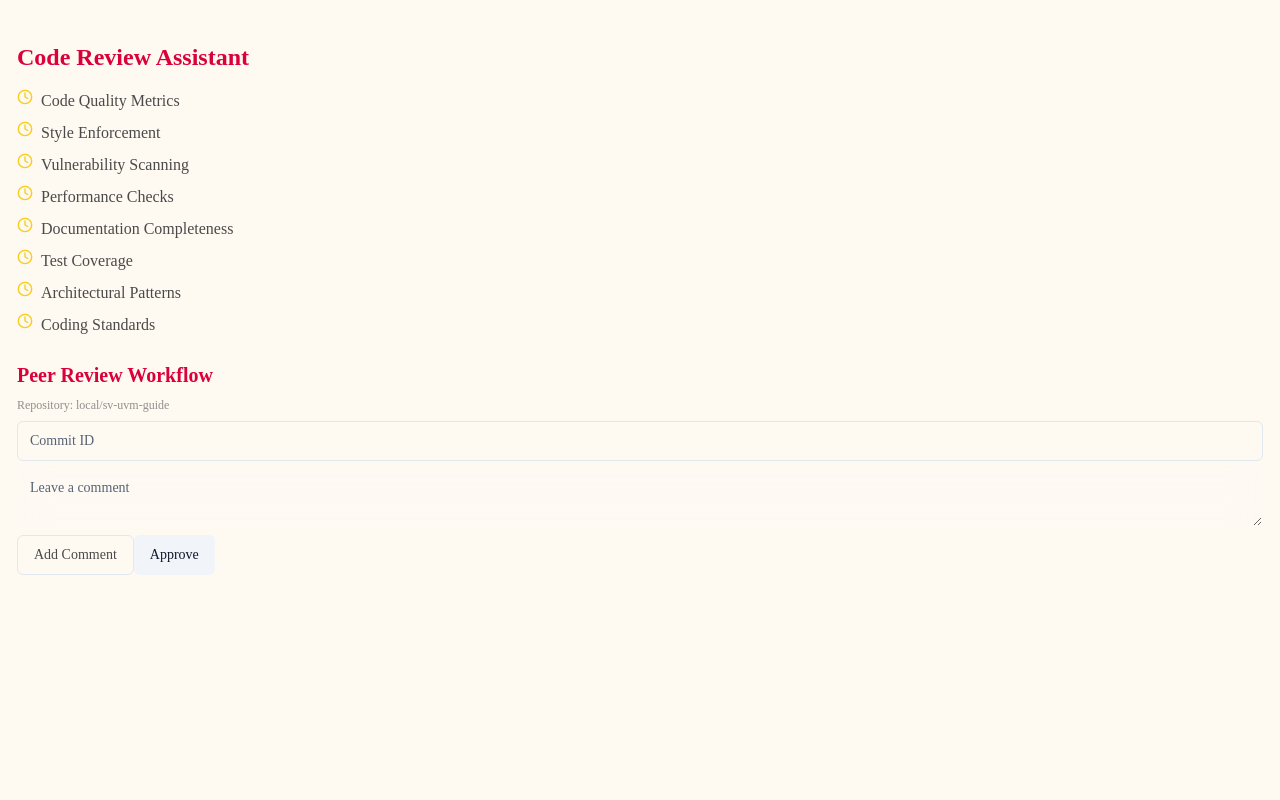
CodeReviewAssistant component › shows validation and server errors
Type "badsha" into the field with placeholder "Commit ID" at coordinates (640, 441), box [17,421,1263,461]
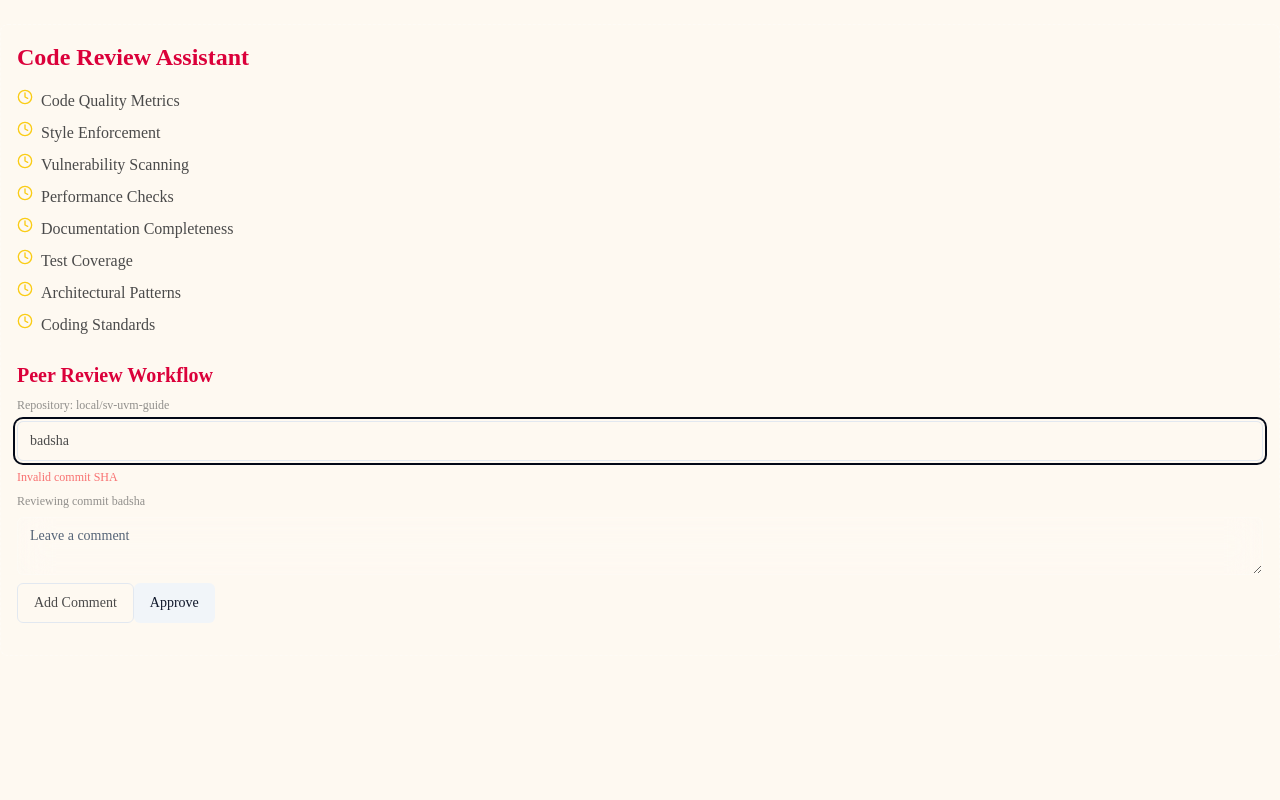
Type "comment" into the text box with placeholder "Leave a comment" at coordinates (640, 546), box [17,517,1263,575]
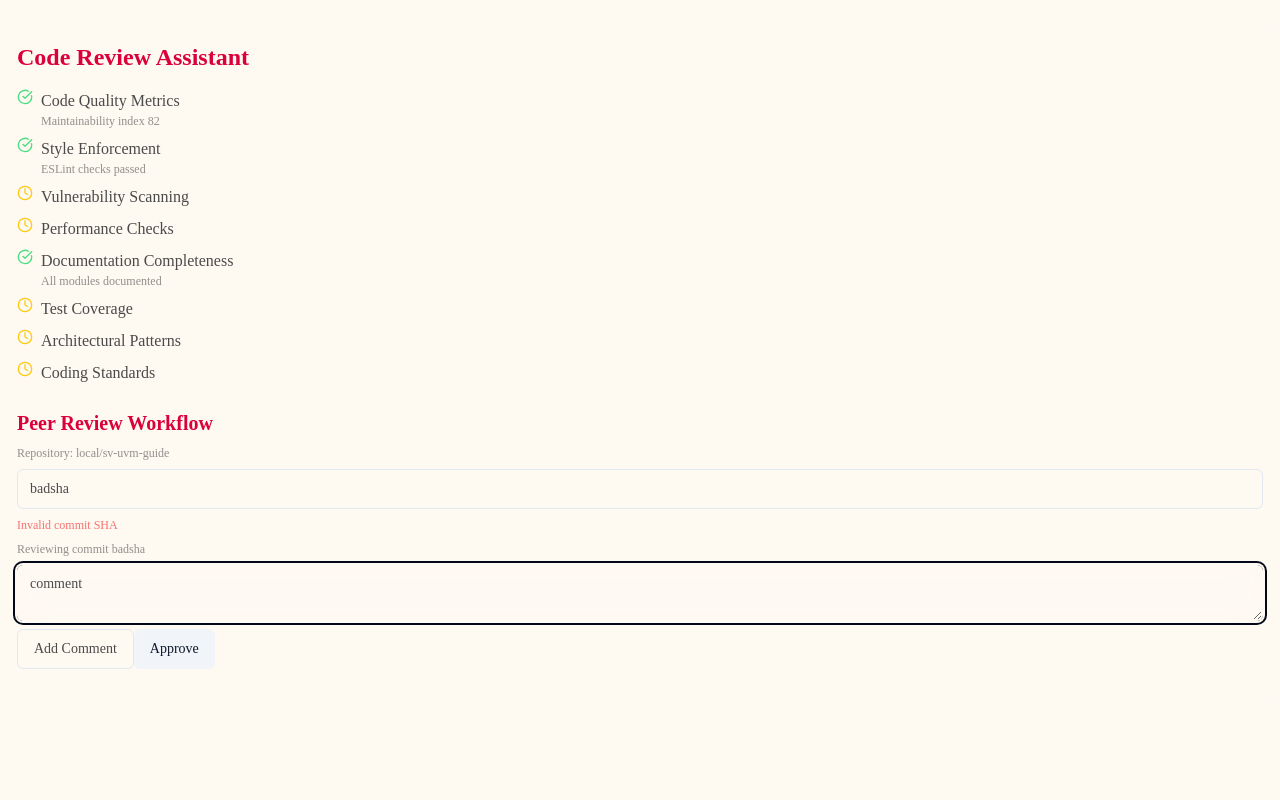
Click the button "Add Comment" at coordinates (75, 649), box [17,629,134,669]
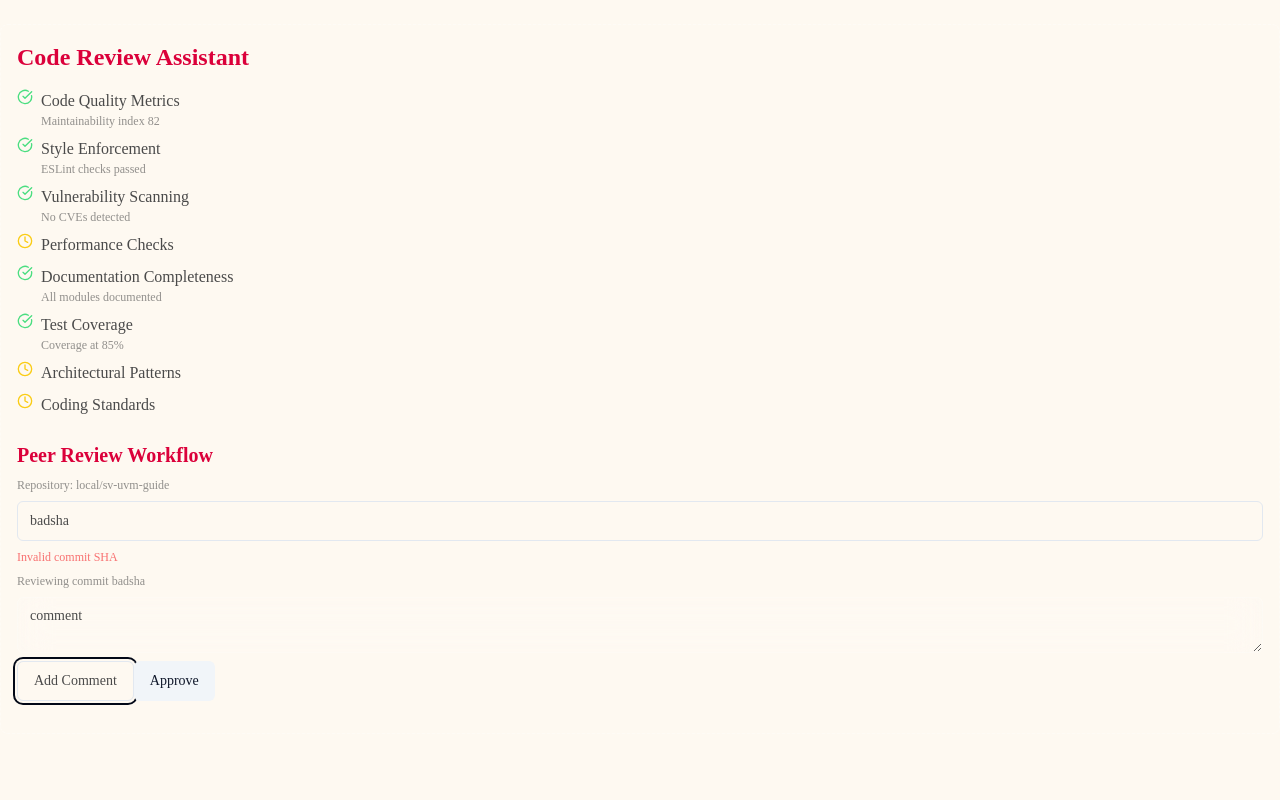
Result: the text "Invalid commit SHA" is shown at [17,550,118,564]
Clear the field with placeholder "Commit ID" at coordinates (640, 521), box [17,501,1263,541]
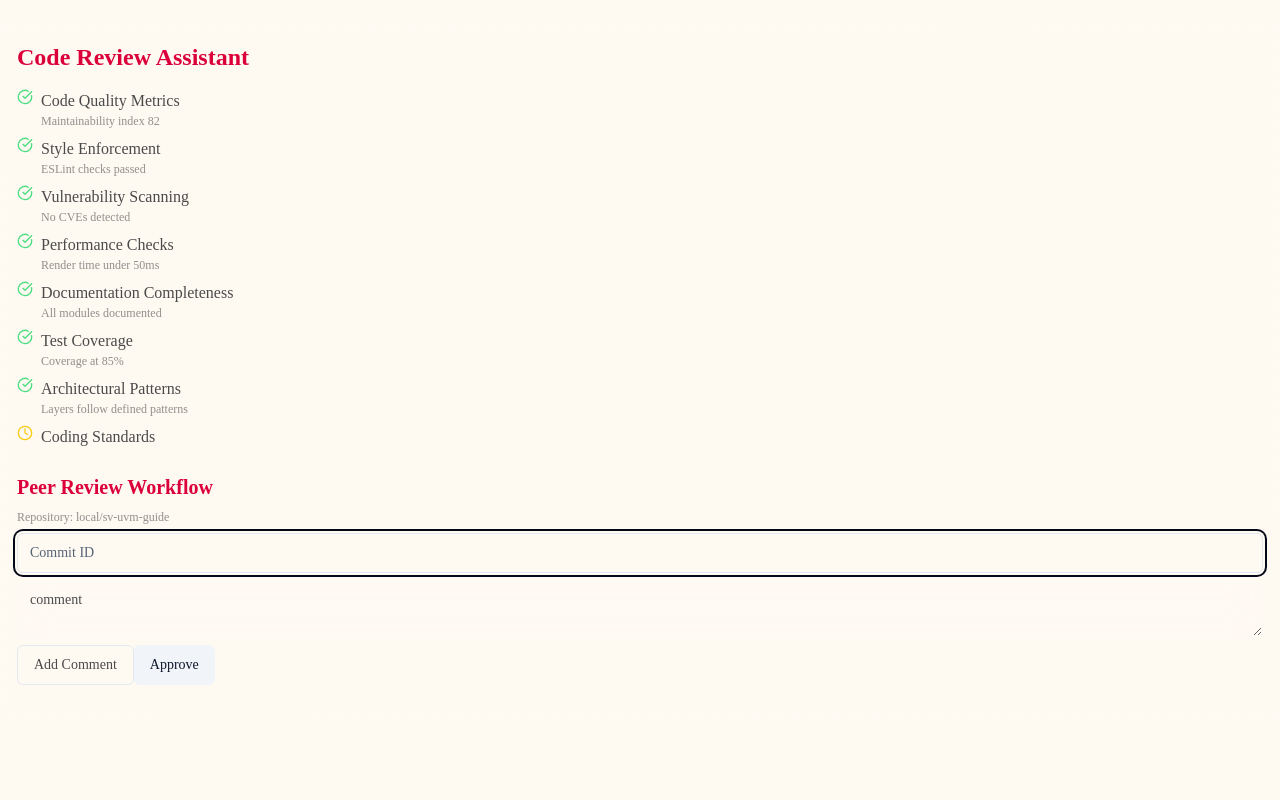
Type "abcdef1" into the field with placeholder "Commit ID" at coordinates (640, 553), box [17,533,1263,573]
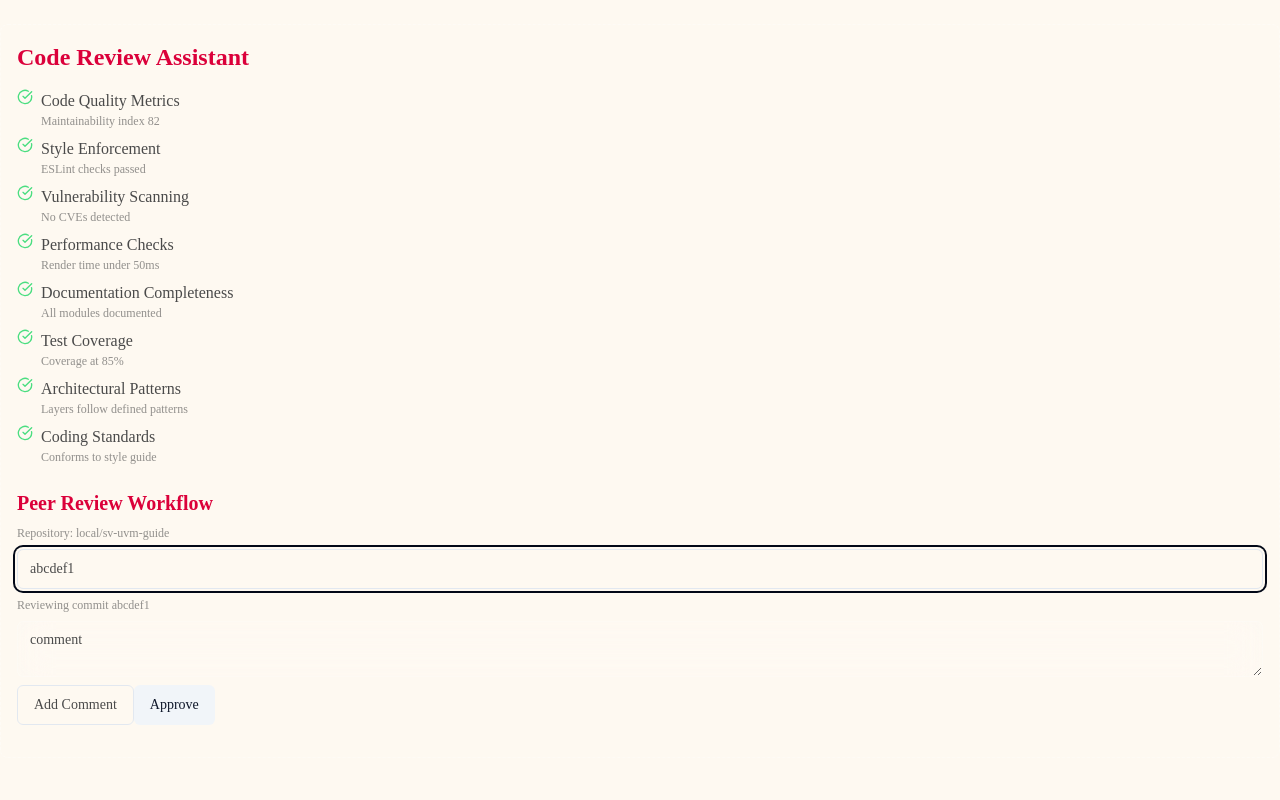
Click the button "Add Comment" at coordinates (75, 705), box [17,685,134,725]
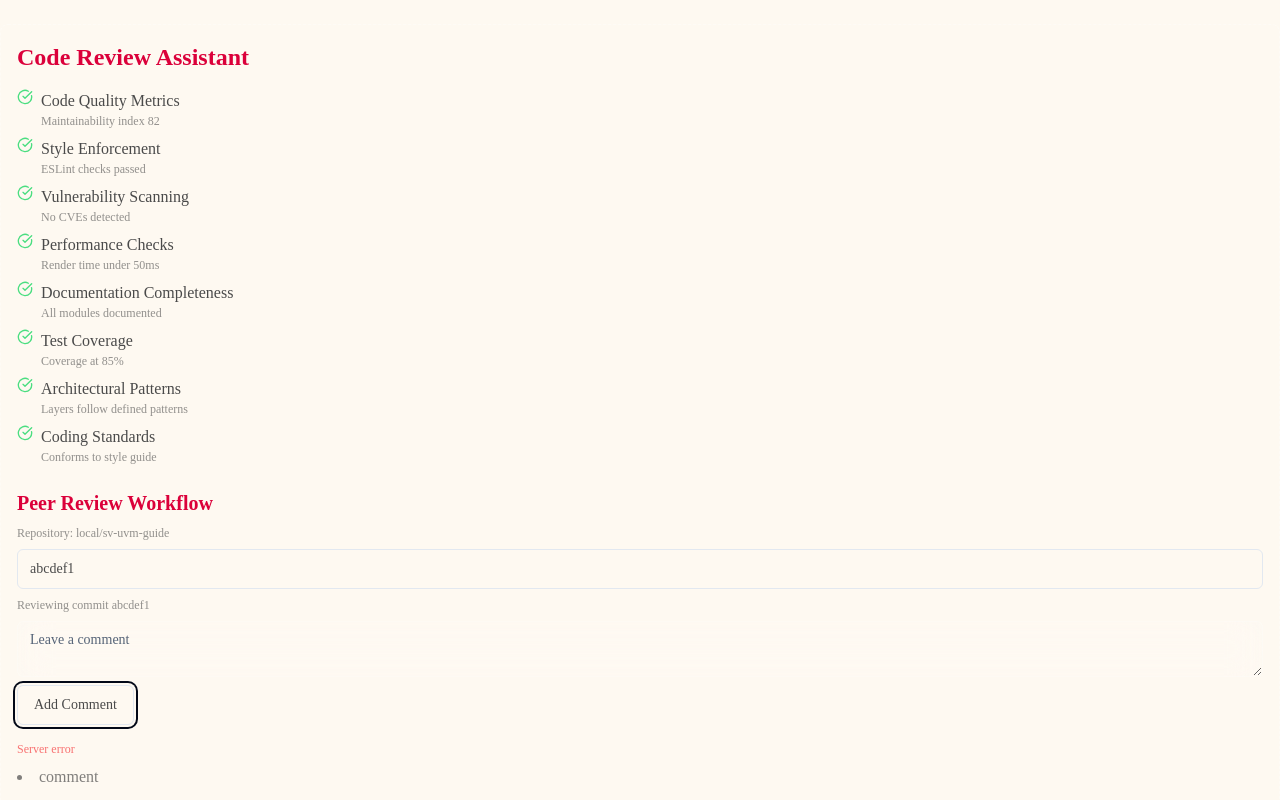
Result: the text "Server error" is shown at [17,742,75,756]
